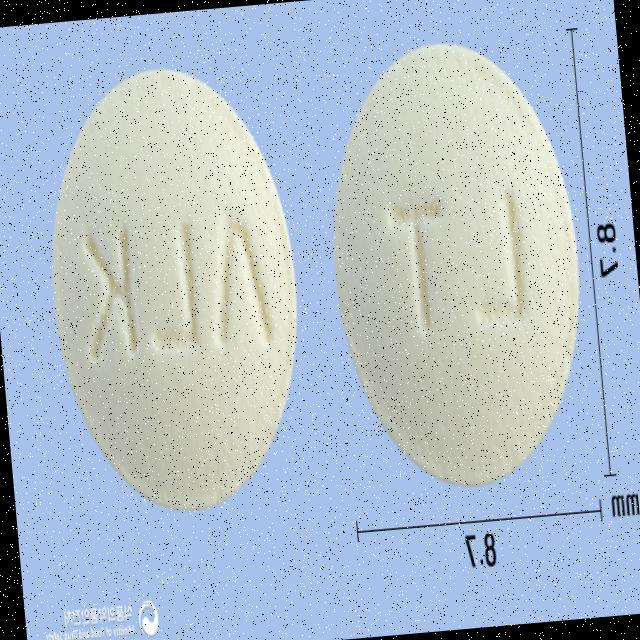Levotam: (314, 29, 594, 500), (33, 53, 314, 520)
